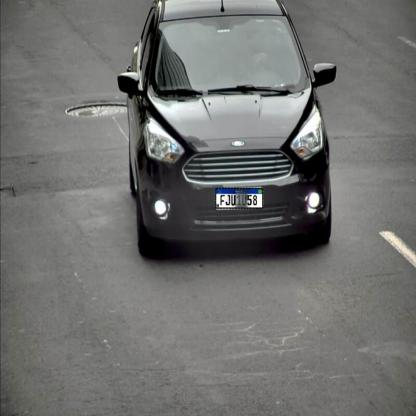PlacaM: (215, 188, 263, 209)
